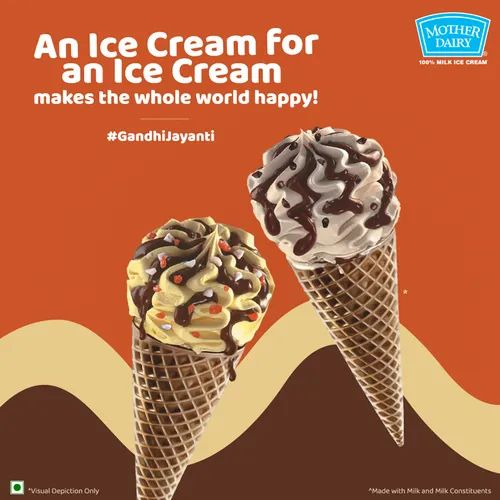Mother_Dairy: (404, 9, 492, 71)
